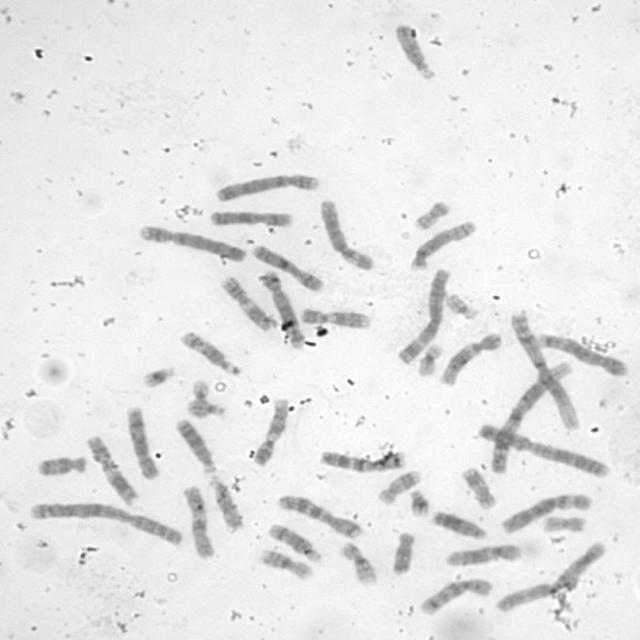A1: (484, 358, 576, 477), (507, 307, 582, 431)
A2: (474, 418, 612, 479), (24, 497, 186, 548)
A3: (492, 538, 609, 614), (394, 263, 454, 366)
B4: (135, 220, 250, 264), (211, 169, 322, 203)
B5: (533, 328, 632, 378), (256, 266, 306, 349)
C10: (415, 574, 493, 618), (178, 482, 216, 560)
C11: (83, 430, 142, 507), (216, 272, 278, 332)
C12: (436, 328, 503, 386), (441, 539, 523, 568)
C6: (316, 195, 376, 271), (497, 489, 593, 535)
C7: (275, 490, 364, 540), (317, 445, 408, 473)
C8: (407, 217, 480, 271), (122, 401, 161, 481)
C9: (248, 393, 290, 467), (296, 304, 372, 330)
D13: (172, 413, 219, 475), (429, 505, 489, 541)
D14: (176, 326, 244, 377), (265, 519, 324, 563)
D15: (391, 18, 438, 82), (205, 473, 245, 532)
E16: (256, 544, 314, 582), (336, 538, 379, 586)
E17: (375, 465, 425, 506), (456, 462, 498, 510)
E18: (34, 451, 90, 478), (388, 528, 418, 576)
F19: (414, 338, 446, 378), (185, 376, 214, 418)
F20: (410, 196, 452, 231), (537, 511, 587, 533)
G21: (138, 362, 178, 388), (405, 485, 434, 518)
G22: (442, 290, 480, 320), (182, 395, 227, 418)
X: (248, 241, 326, 292), (206, 206, 295, 227)
